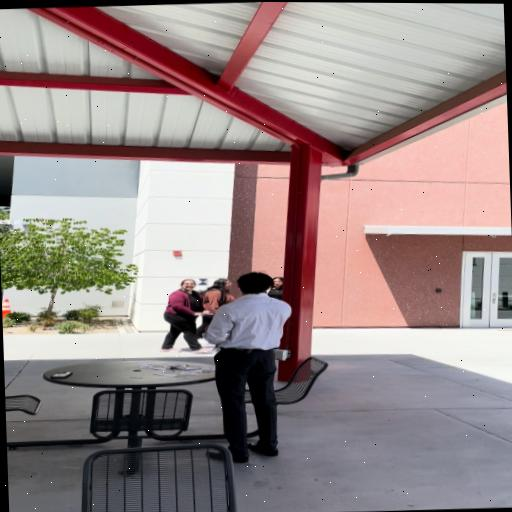target6: (198, 278, 208, 285)
